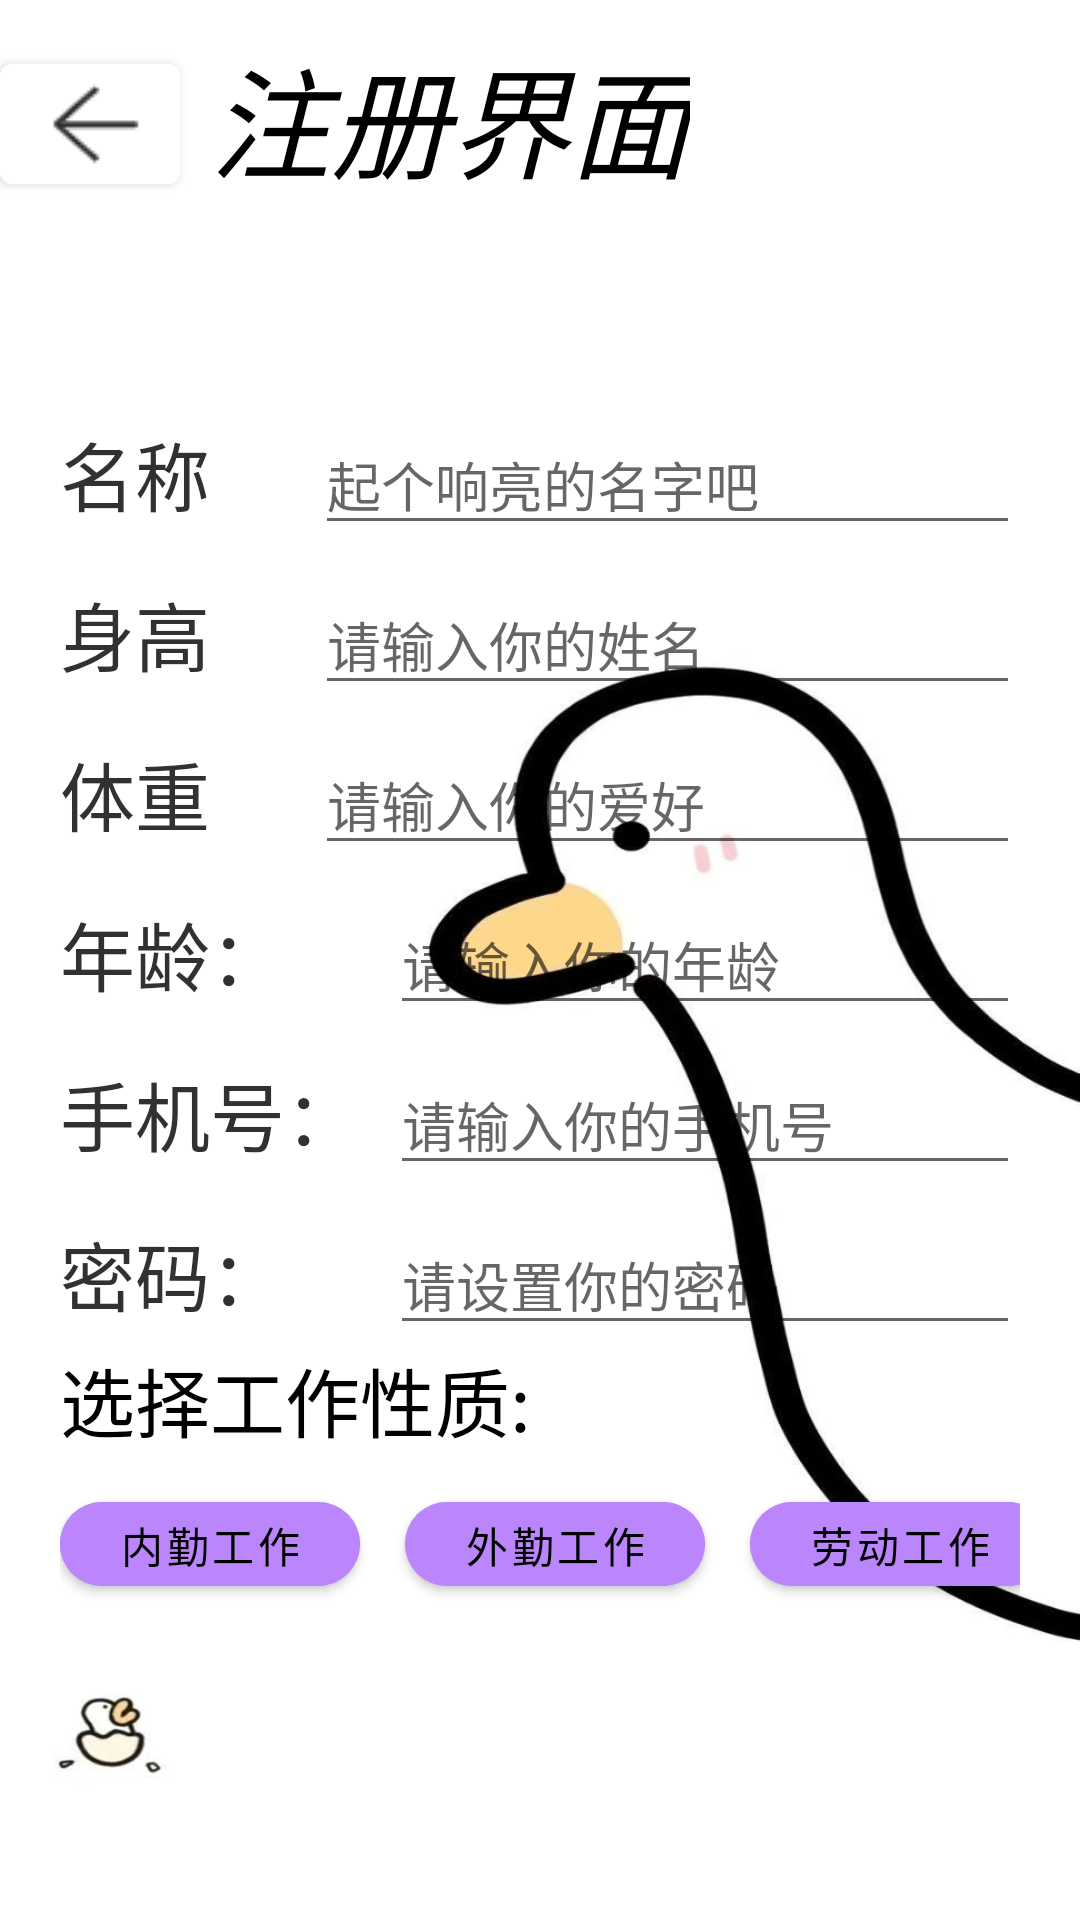

Icons on this 1080×1920 Android screen, each with the point to tap as point (x, y):
back: point (96, 124)
